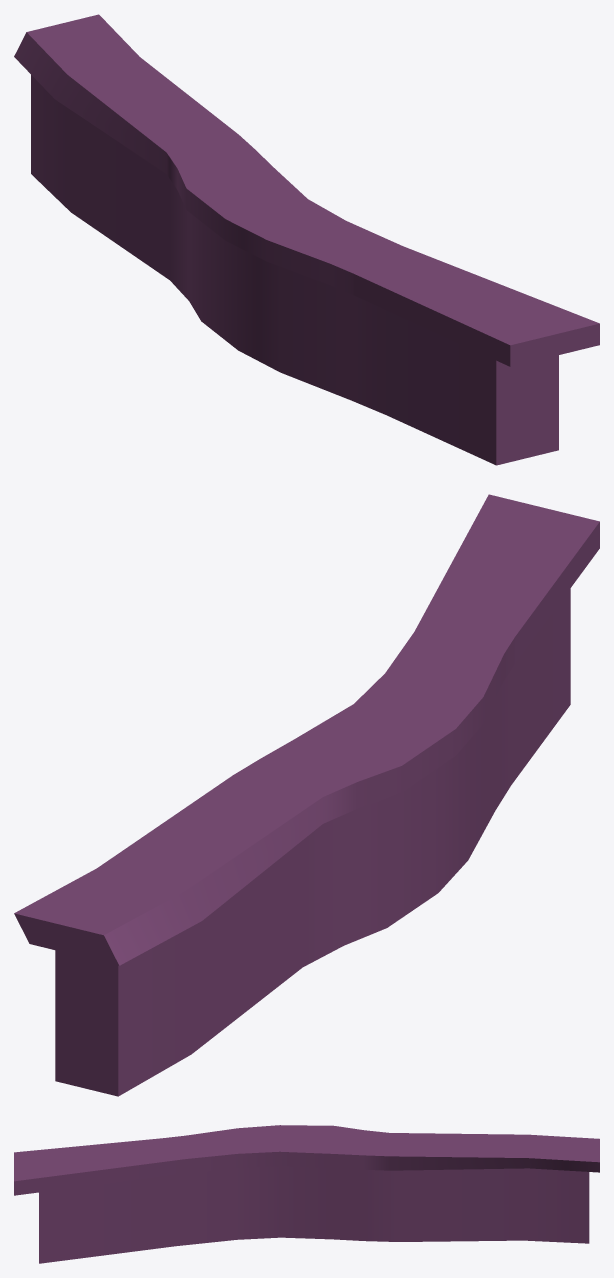
Rendered from road3.fbx.
3 renders of one model, top to bottom at view 1: azimuth 30°, elevation 25°; view 2: azimuth 150°, elevation 25°; view 3: azimuth 270°, elevation 25°, orthographic. The views are drawn at different scales.
Visible parts, largest first — view 1: pCube4; view 2: pCube4; view 3: pCube4.
Boxes of the visible parts, bbox=[...] form: pCube4: bbox=[14, 14, 599, 465]; pCube4: bbox=[14, 494, 599, 1096]; pCube4: bbox=[14, 1125, 599, 1263].
Size of the model in its own units: 8.41 by 6.25 by 37.04.
